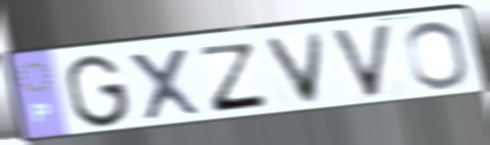G: (63, 52, 133, 130)
O: (402, 18, 473, 92)
V: (327, 20, 396, 102), (259, 29, 328, 108)
X: (124, 45, 207, 124)
Z: (197, 42, 272, 116)
